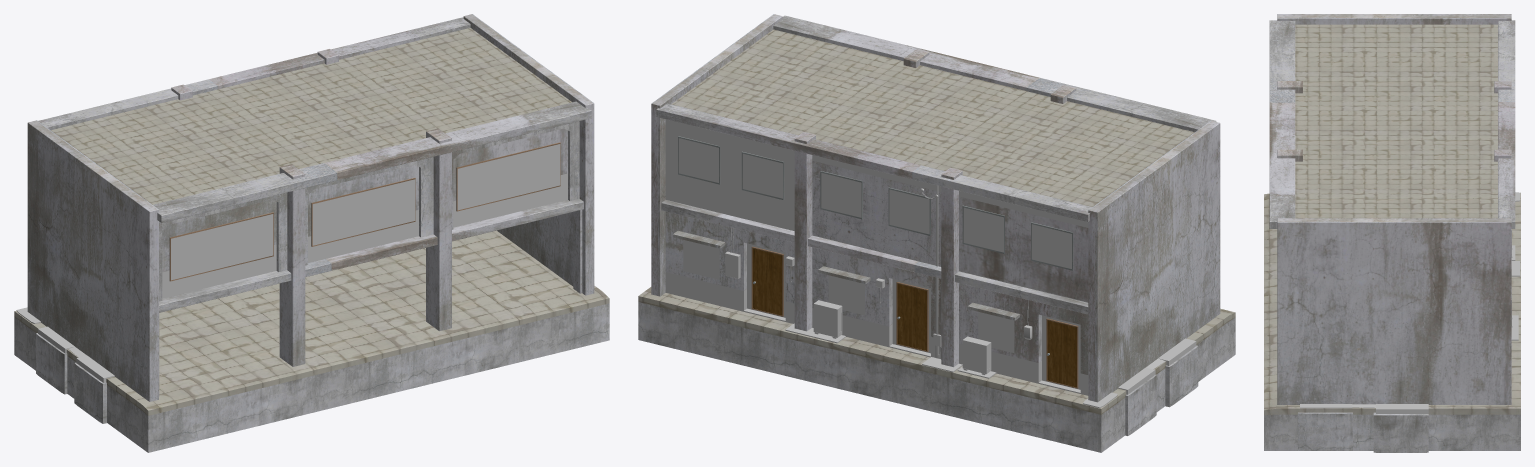
Rendered from mallbil_3x2_3_in.fbx.
The picture shows the model from 3 angles, left to right: view 1: azimuth 30°, elevation 25°; view 2: azimuth 150°, elevation 25°; view 3: azimuth 270°, elevation 25°; orthographic projection. The views are drawn at different scales.
Parts seen in each view (by area): view 1: mallbil_3x2_3_in; view 2: mallbil_3x2_3_in; view 3: mallbil_3x2_3_in.
Part boxes in pixels (<box>): mallbil_3x2_3_in: <box>14,14,609,452</box>; mallbil_3x2_3_in: <box>638,14,1235,452</box>; mallbil_3x2_3_in: <box>1264,14,1520,452</box>.
Size of the model in its own units: 18.98 by 9.01 by 9.32.
